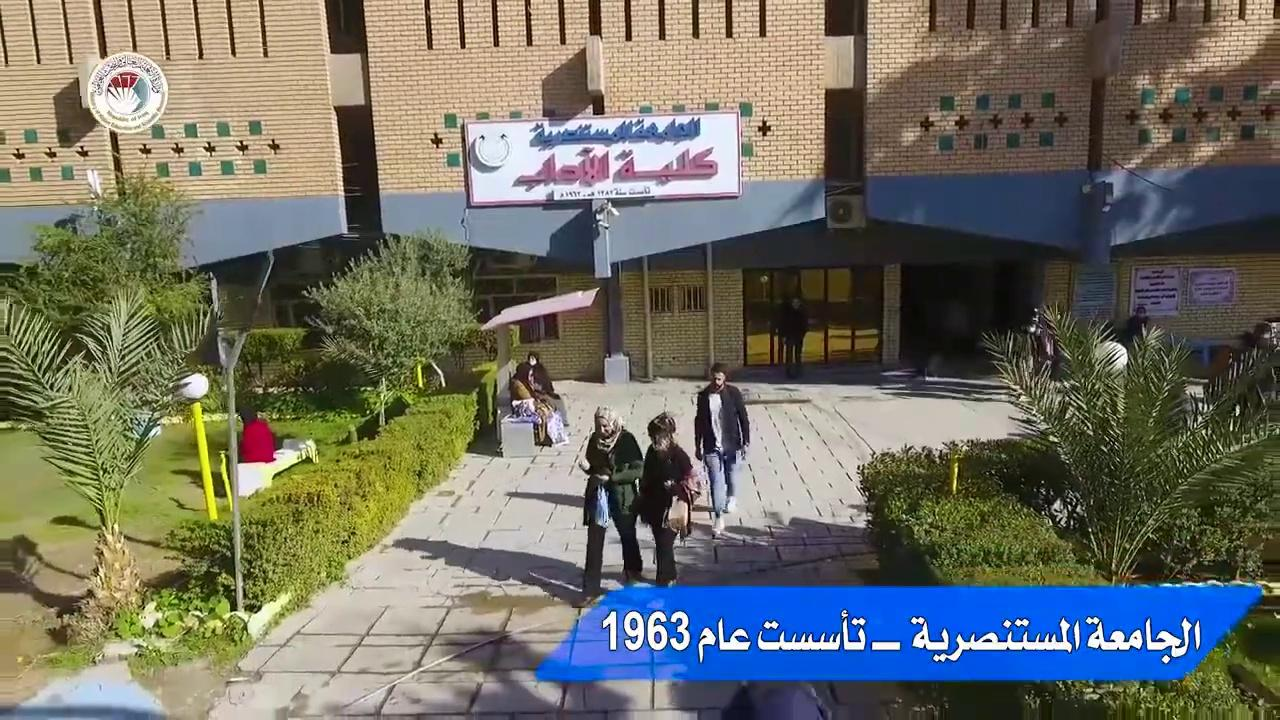person: (576, 404, 647, 593), (636, 412, 700, 586), (693, 361, 750, 539), (1203, 320, 1274, 405), (509, 350, 568, 446), (779, 295, 808, 378), (513, 350, 558, 401), (236, 405, 275, 463), (1126, 305, 1150, 344)
tree: (976, 300, 1278, 717), (0, 168, 225, 629), (7, 168, 223, 376), (299, 227, 484, 428), (236, 327, 306, 407)
